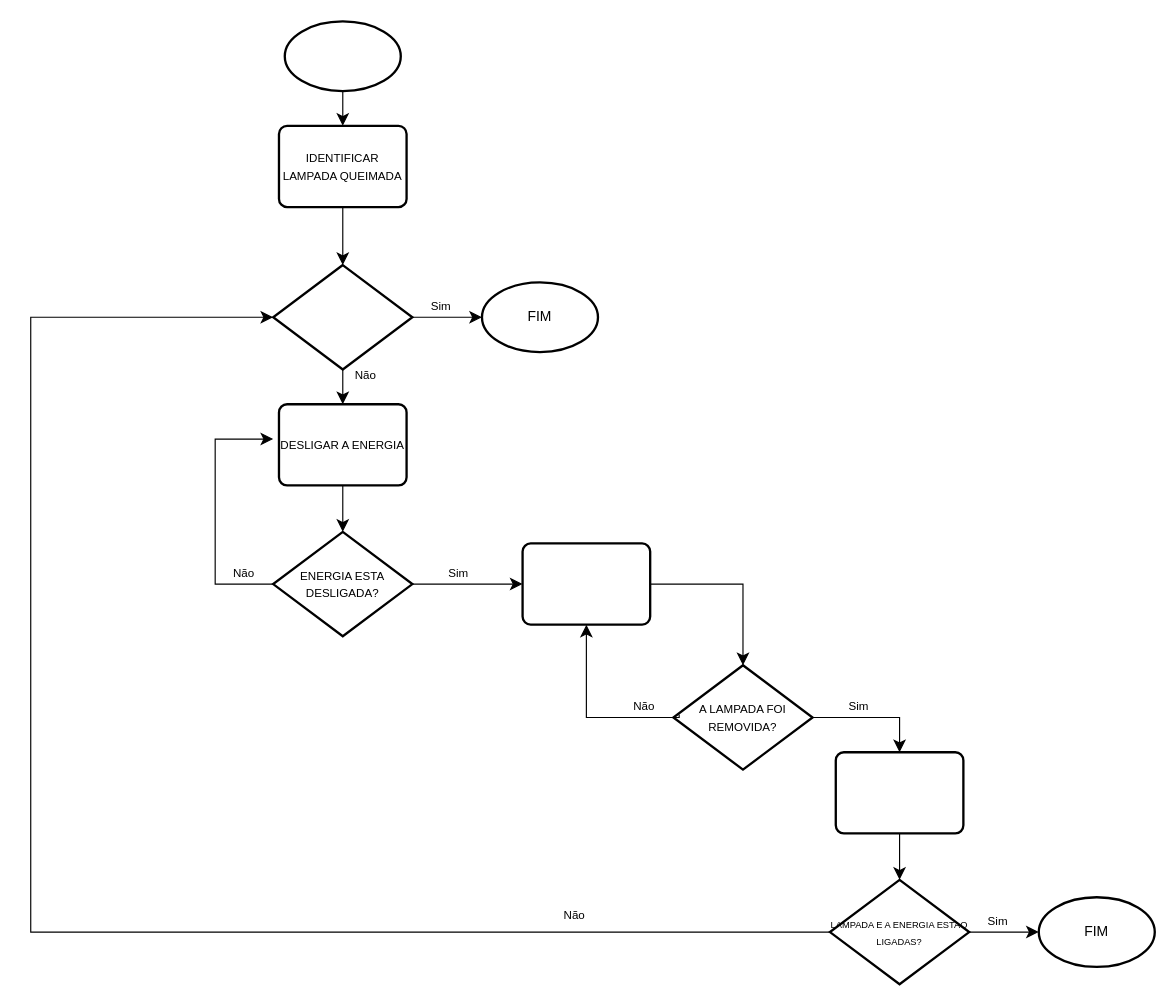
Some shapes in this 1176 by 1005 pixel diagram are drawn without their labels. The centre of each missing label's shape, as x and y in pixels:
INICIO: (342,56)
INSTALA LAMPADA NOVA E LIGAR A ENERGIA: (899,792)
LAMPADA ESTA LIGADA?: (342,316)
REMOVER LAMPADA QUEIMADA: (586,583)
